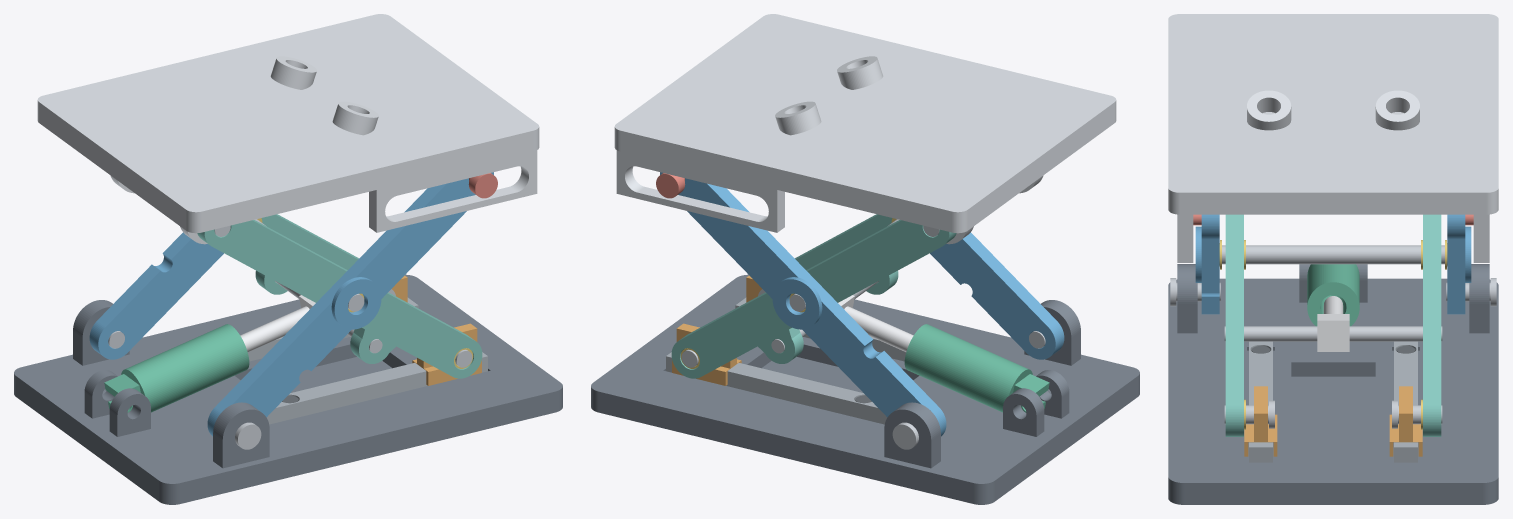
Rendered from t5_scissor_lift_32p_agy.glb.
3 renders of one model, left to right at view 1: azimuth 30°, elevation 25°; view 2: azimuth 150°, elevation 25°; view 3: azimuth 270°, elevation 25°, orthographic. The views are drawn at different scales.
Visible parts, largest first — view 1: part_05_shear_table, part_01_base_frame, part_02_outer_arm_neg_y, part_03_inner_arm_neg_y, part_02_outer_arm_pos_y, part_07_cylinder_barrel, part_06_guide_rail_neg_y, part_03_inner_arm_pos_y, part_08_piston_rod_clevis, part_04_slider_neg_y; view 2: part_05_shear_table, part_01_base_frame, part_02_outer_arm_pos_y, part_03_inner_arm_pos_y, part_02_outer_arm_neg_y, part_07_cylinder_barrel, part_06_guide_rail_pos_y, part_03_inner_arm_neg_y, part_08_piston_rod_clevis, part_04_slider_pos_y; view 3: part_05_shear_table, part_01_base_frame, part_03_inner_arm_pos_y, part_03_inner_arm_neg_y, part_09_center_cross_axle, part_07_cylinder_barrel, part_10_drive_cross_pin, part_02_outer_arm_pos_y, part_02_outer_arm_neg_y, part_06_guide_rail_pos_y, part_06_guide_rail_neg_y, part_08_piston_rod_clevis (+4 smaller).
Boxes of the visible parts, x1,y1,x2,y2 form: part_05_shear_table: (37,14,539,244); part_01_base_frame: (14,274,562,504); part_02_outer_arm_neg_y: (207,172,493,436); part_03_inner_arm_neg_y: (197,220,482,378); part_02_outer_arm_pos_y: (89,232,223,359); part_07_cylinder_barrel: (104,324,249,412); part_06_guide_rail_neg_y: (266,352,487,424); part_03_inner_arm_pos_y: (255,214,358,294); part_08_piston_rod_clevis: (240,295,315,351); part_04_slider_neg_y: (412,323,481,385); part_05_shear_table: (614,14,1116,244); part_01_base_frame: (591,274,1139,504); part_02_outer_arm_pos_y: (660,172,946,436); part_03_inner_arm_pos_y: (671,220,956,378); part_02_outer_arm_neg_y: (930,232,1064,359); part_07_cylinder_barrel: (904,324,1049,412); part_06_guide_rail_pos_y: (666,352,887,424); part_03_inner_arm_neg_y: (795,214,898,294); part_08_piston_rod_clevis: (838,295,913,351); part_04_slider_pos_y: (672,323,741,385); part_05_shear_table: (1168,14,1498,262); part_01_base_frame: (1168,264,1498,504); part_03_inner_arm_pos_y: (1423,214,1441,436); part_03_inner_arm_neg_y: (1225,214,1243,436); part_09_center_cross_axle: (1222,245,1444,264); part_07_cylinder_barrel: (1307,264,1359,326); part_10_drive_cross_pin: (1224,326,1442,341); part_02_outer_arm_pos_y: (1447,214,1471,314); part_02_outer_arm_neg_y: (1195,214,1219,314); part_06_guide_rail_pos_y: (1394,341,1417,462); part_06_guide_rail_neg_y: (1249,341,1272,462); part_08_piston_rod_clevis: (1317,296,1349,351).
Bounding box in the file's own units: 0.24 × 0.1772 × 0.164.
